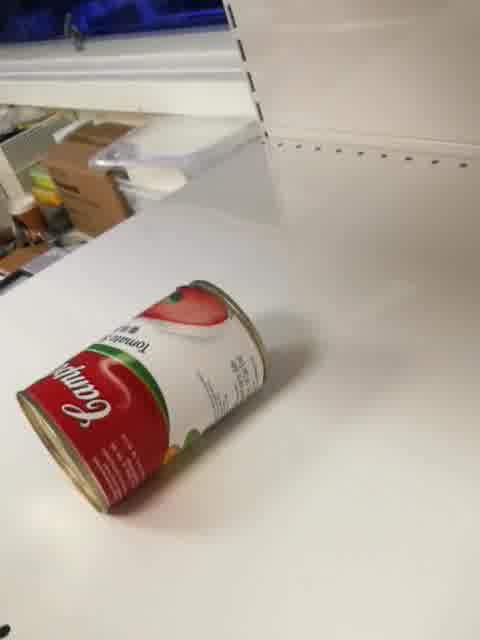tomatosoup: (15, 275, 271, 516)
